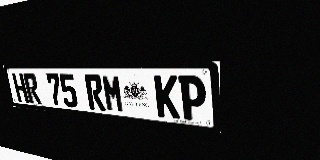5: (59, 74, 79, 108)
7: (45, 74, 64, 107)
H: (12, 73, 30, 103)
K: (154, 75, 180, 119)
M: (102, 74, 125, 113)
P: (179, 75, 206, 122)
R: (84, 74, 106, 111), (23, 73, 41, 104)
